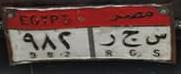2: (57, 29, 73, 49)
8: (40, 32, 57, 51)
9: (21, 32, 39, 52)
jeem: (120, 28, 143, 49)
raa: (97, 31, 116, 48)
seen: (144, 29, 167, 48)
